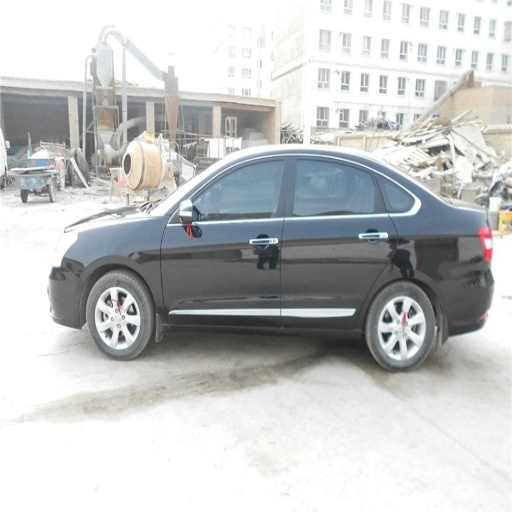back_left_door: (281, 153, 396, 327)
